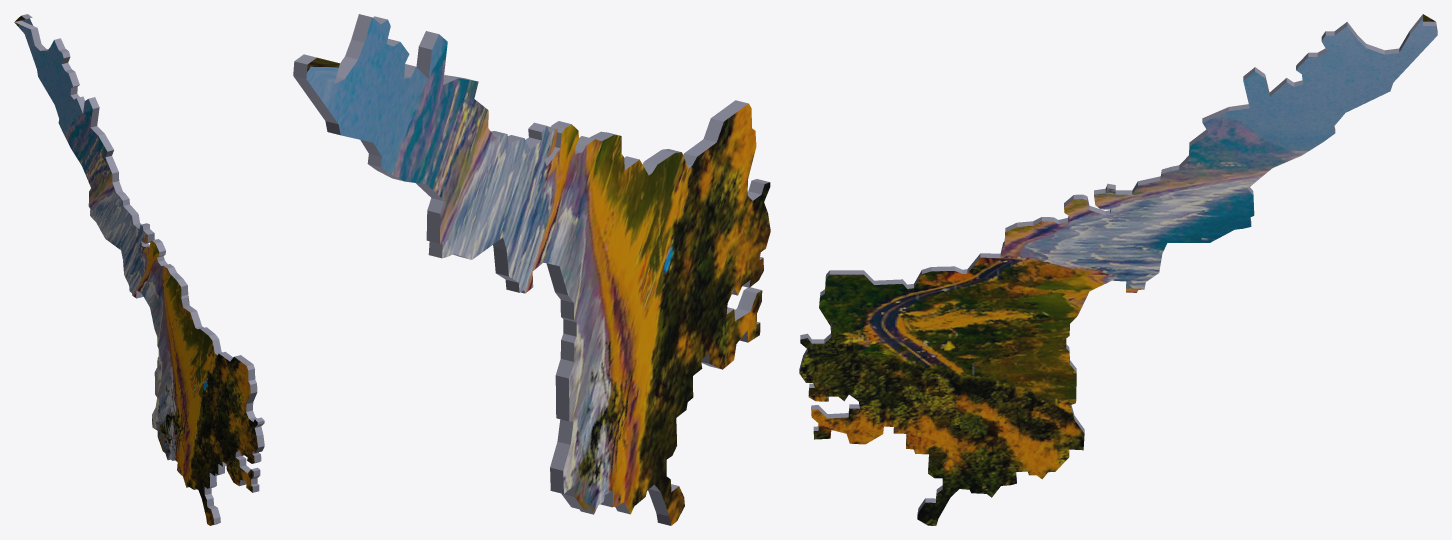
The model's file is andhra pradesh.glb.
3 views of the same model, side by side, from view 1: azimuth 30°, elevation 25°; view 2: azimuth 150°, elevation 25°; view 3: azimuth 270°, elevation 25° (orthographic). The views are drawn at different scales.
Visible parts, largest first — view 1: Object_42; view 2: Object_42; view 3: Object_42.
Part boxes in pixels (box(x1,y1,x2,y2)): Object_42: box(14, 14, 264, 525); Object_42: box(293, 14, 770, 525); Object_42: box(799, 14, 1437, 525).
Size of the model in its own units: 0.0557 by 1.07 by 1.24.
Materials: 1 (1 with a texture image).
